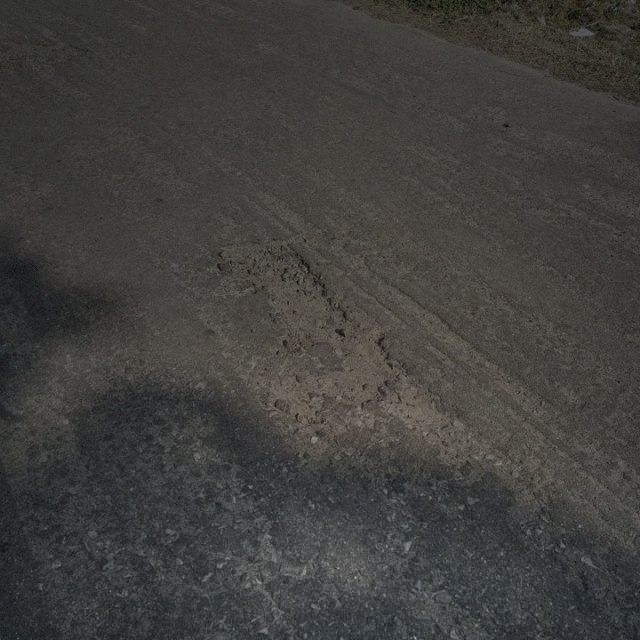pothole: (214, 238, 404, 420)
